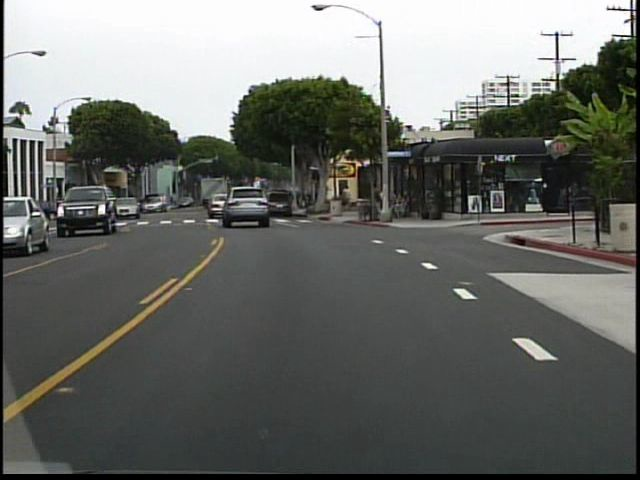person: (366, 185, 384, 222)
